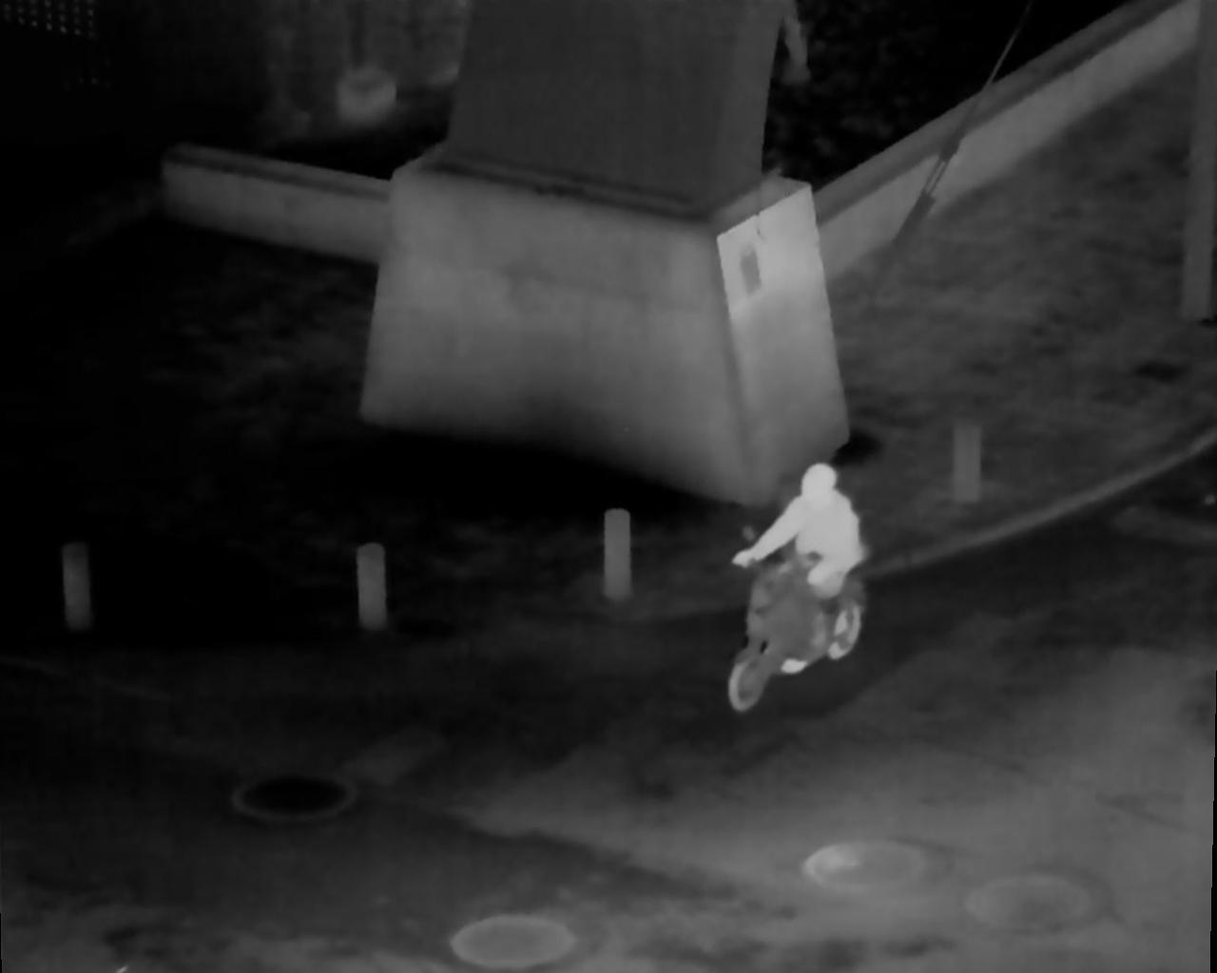person: (736, 462, 863, 630)
